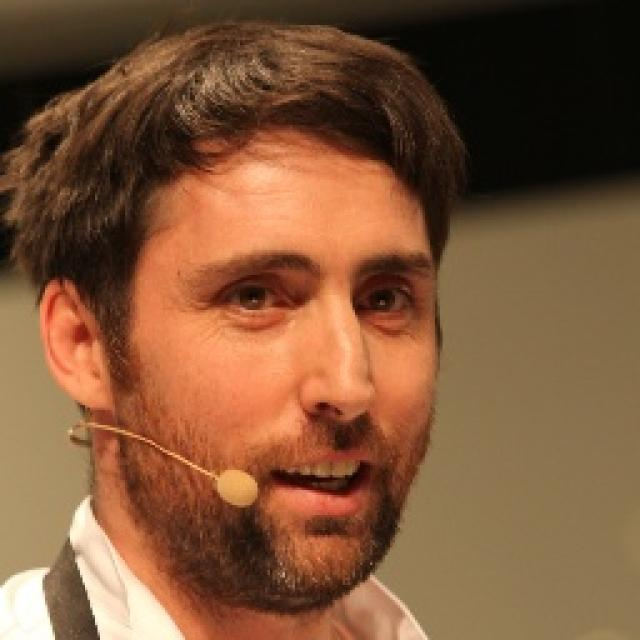earlobe: (38, 279, 112, 410)
